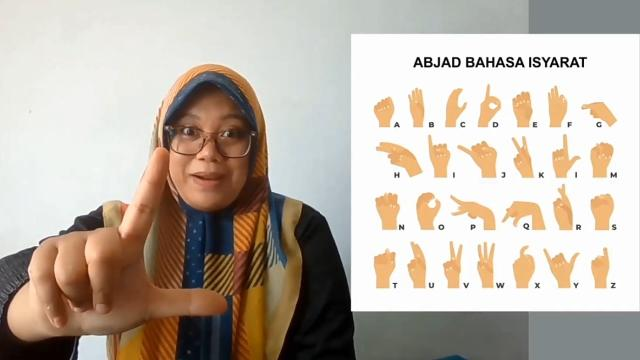L: (24, 141, 222, 337)
